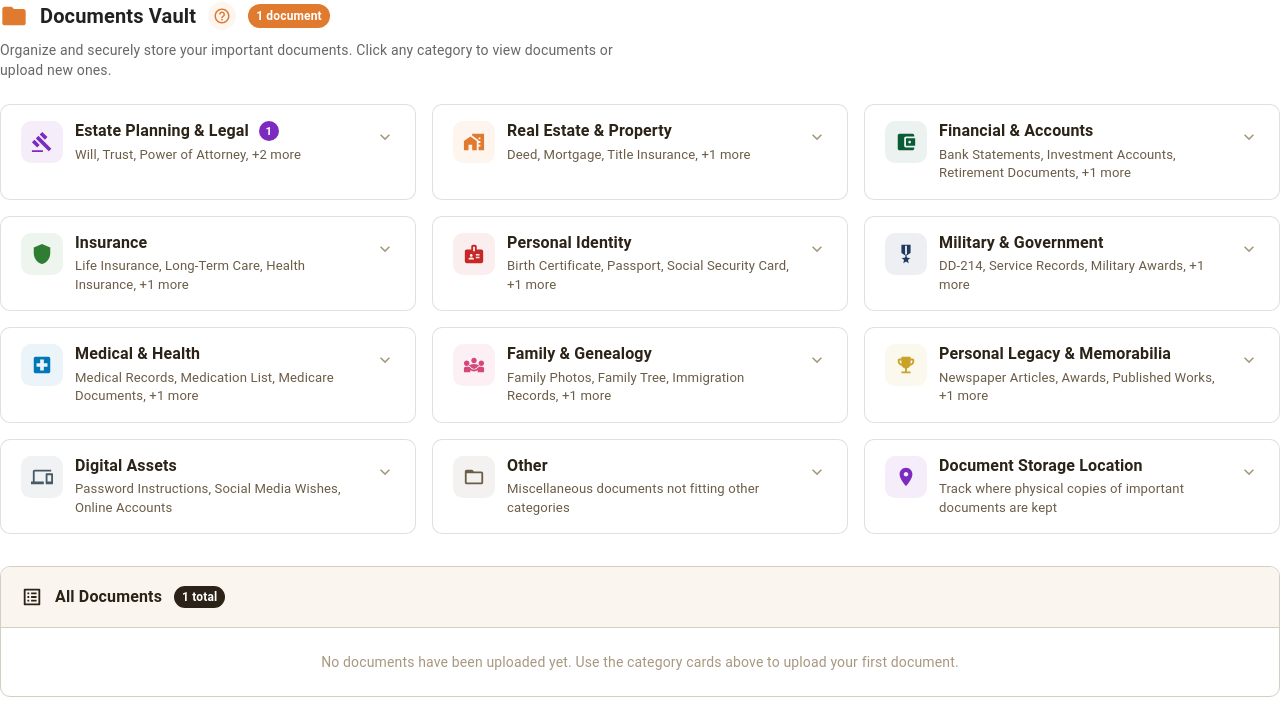
Test case: DocumentsVaultSection › Document List › delete button opens confirmation dialog
Click the heading "Estate Planning & Legal": {"x": 162, "y": 131} top-left (75, 121), bottom-right (249, 142)
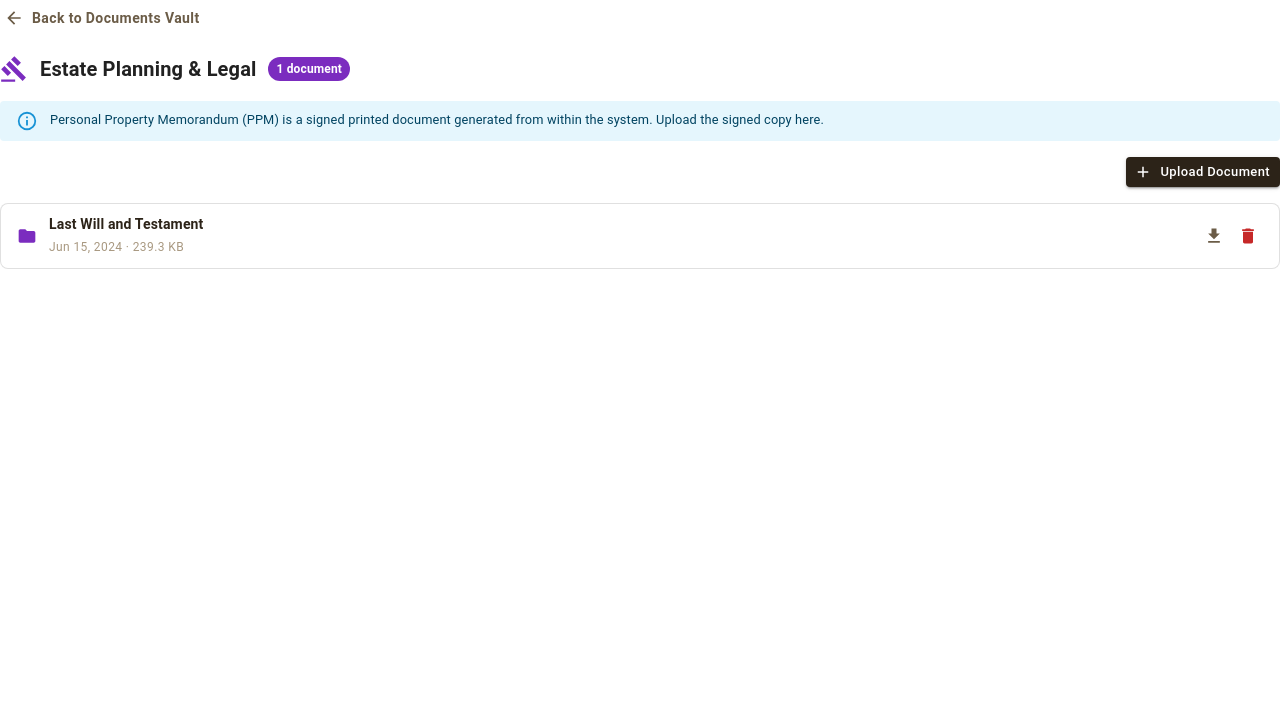
Now the text "Last Will and Testament" is shown, box top-left (49, 214), bottom-right (204, 234)
Click the button titled "Delete": {"x": 1248, "y": 236} top-left (1233, 221), bottom-right (1263, 251)
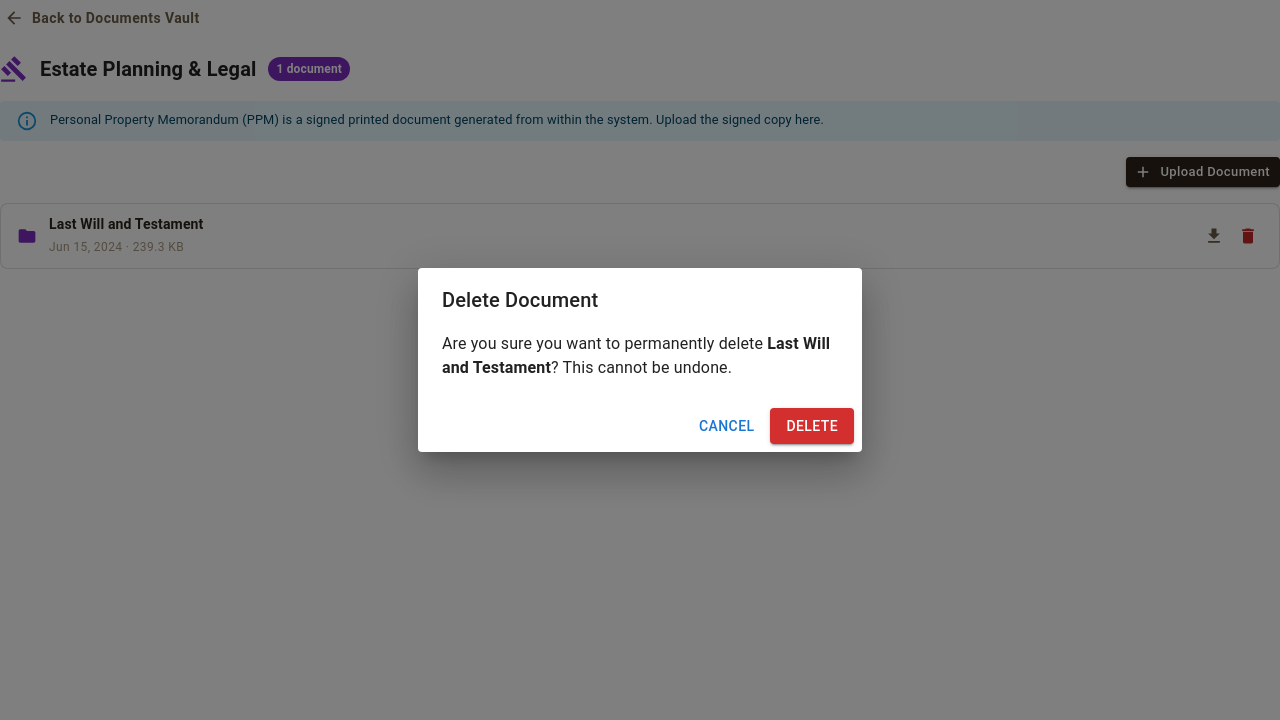
Now the heading "Delete Document" is shown, box top-left (442, 288), bottom-right (598, 312)
Now the text "Are you sure you want to permanently delete" is shown, box top-left (442, 334), bottom-right (767, 353)
